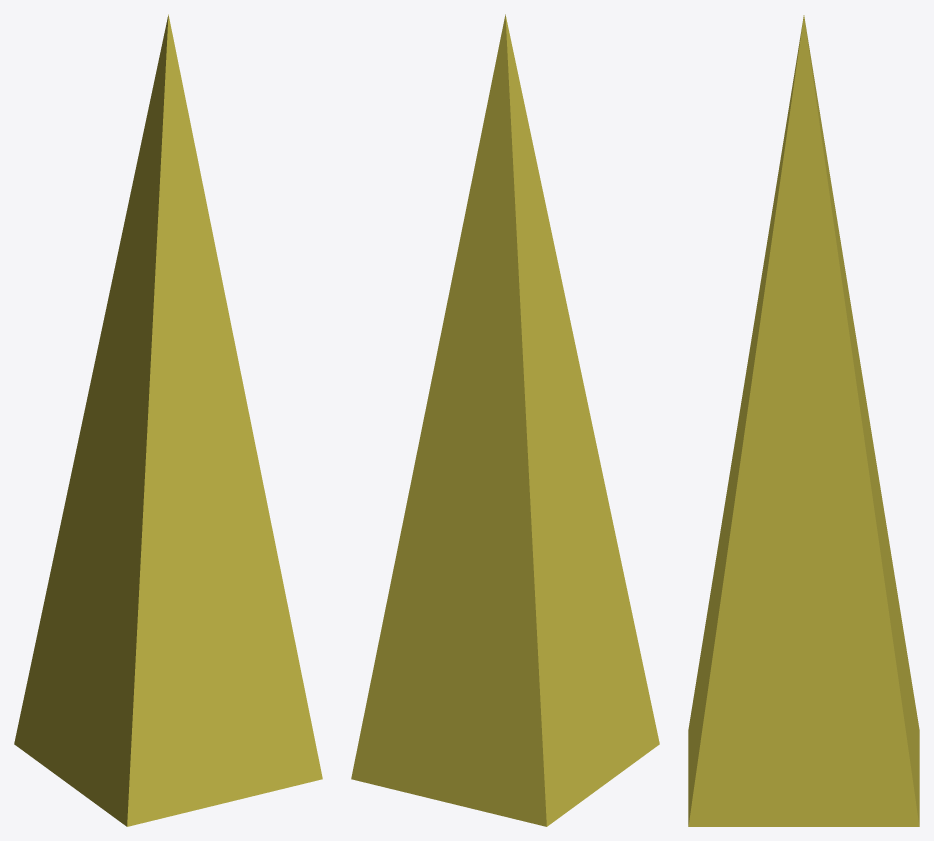
File: statuepyramid.glb
3 renders of one model, left to right at view 1: azimuth 30°, elevation 25°; view 2: azimuth 150°, elevation 25°; view 3: azimuth 270°, elevation 25°, orthographic. The views are drawn at different scales.
Visible parts, largest first — view 1: Mesh_Mesh_head_geo.001_lambert2SG.001; view 2: Mesh_Mesh_head_geo.001_lambert2SG.001; view 3: Mesh_Mesh_head_geo.001_lambert2SG.001.
Part boxes in pixels (<box>): Mesh_Mesh_head_geo.001_lambert2SG.001: <box>14,14,322,826</box>; Mesh_Mesh_head_geo.001_lambert2SG.001: <box>351,14,659,826</box>; Mesh_Mesh_head_geo.001_lambert2SG.001: <box>688,15,919,826</box>.
Bounding box in the file's own units: 2 × 7.3 × 2.
